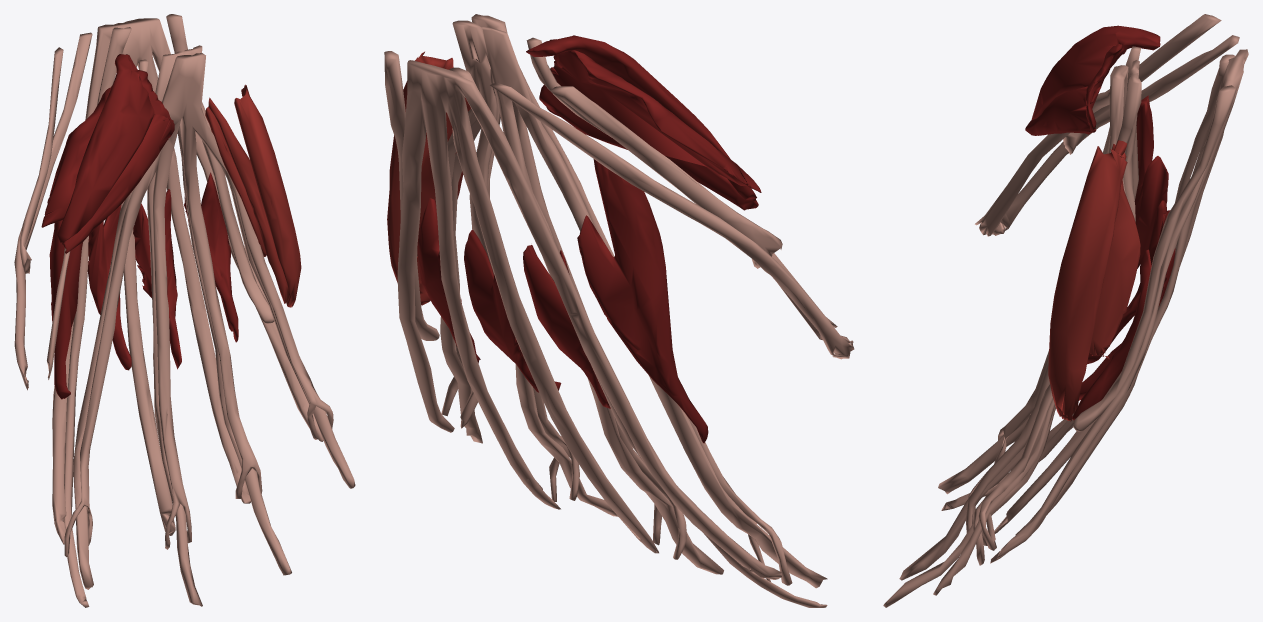
File: hand-muscles.glb
The picture shows the model from 3 angles, left to right: view 1: azimuth 30°, elevation 25°; view 2: azimuth 150°, elevation 25°; view 3: azimuth 270°, elevation 25°; orthographic projection. The views are drawn at different scales.
Visible parts, largest first — view 1: flexor_tendons, extensor_tendons, thenar_eminence, dorsal_interossei, hypothenar_eminence; view 2: extensor_tendons, flexor_tendons, dorsal_interossei, thenar_eminence, hypothenar_eminence; view 3: extensor_tendons, flexor_tendons, hypothenar_eminence, thenar_eminence, dorsal_interossei.
Part boxes in pixels (box(x1,y1,x2,y2)): flexor_tendons: box(47, 45, 355, 606); extensor_tendons: box(14, 14, 323, 607); thenar_eminence: box(41, 54, 174, 253); dorsal_interossei: box(49, 172, 238, 399); hypothenar_eminence: box(205, 84, 301, 307); extensor_tendons: box(384, 51, 854, 607); flexor_tendons: box(440, 14, 837, 588); dorsal_interossei: box(417, 159, 708, 443); thenar_eminence: box(526, 35, 761, 210); hypothenar_eminence: box(387, 51, 470, 305); extensor_tendons: box(941, 14, 1248, 563); flexor_tendons: box(883, 46, 1141, 607); hypothenar_eminence: box(1048, 140, 1140, 421); thenar_eminence: box(1025, 25, 1160, 135); dorsal_interossei: box(1072, 95, 1175, 420).
Bounding box in the file's own units: 0.0986 × 0.1425 × 0.0842.
